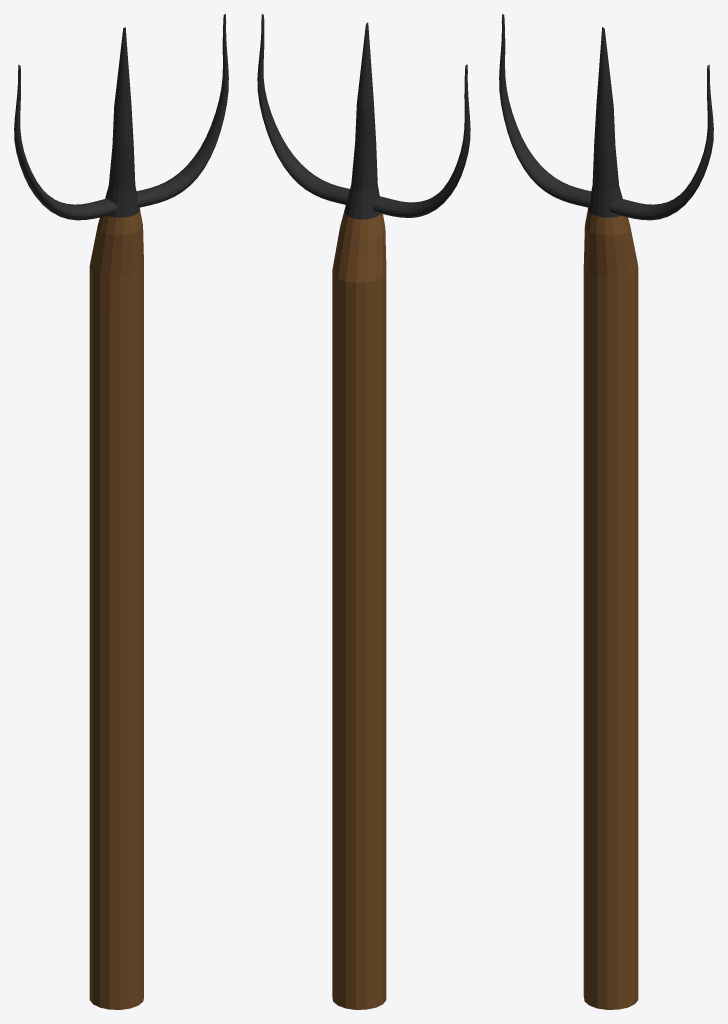
Rendered from pitchfork.fbx.
3 renders of one model, left to right at view 1: azimuth 30°, elevation 25°; view 2: azimuth 150°, elevation 25°; view 3: azimuth 330°, elevation 25°, orthographic.
Parts seen in each view (by area): view 1: pitchfork; view 2: pitchfork; view 3: pitchfork.
Part boxes in pixels (x1,y1,x2,y2): pitchfork: [14, 14, 228, 1009]; pitchfork: [257, 14, 470, 1009]; pitchfork: [499, 14, 713, 1009].
Size of the model in its own units: 14.12 by 61.69 by 3.27.
